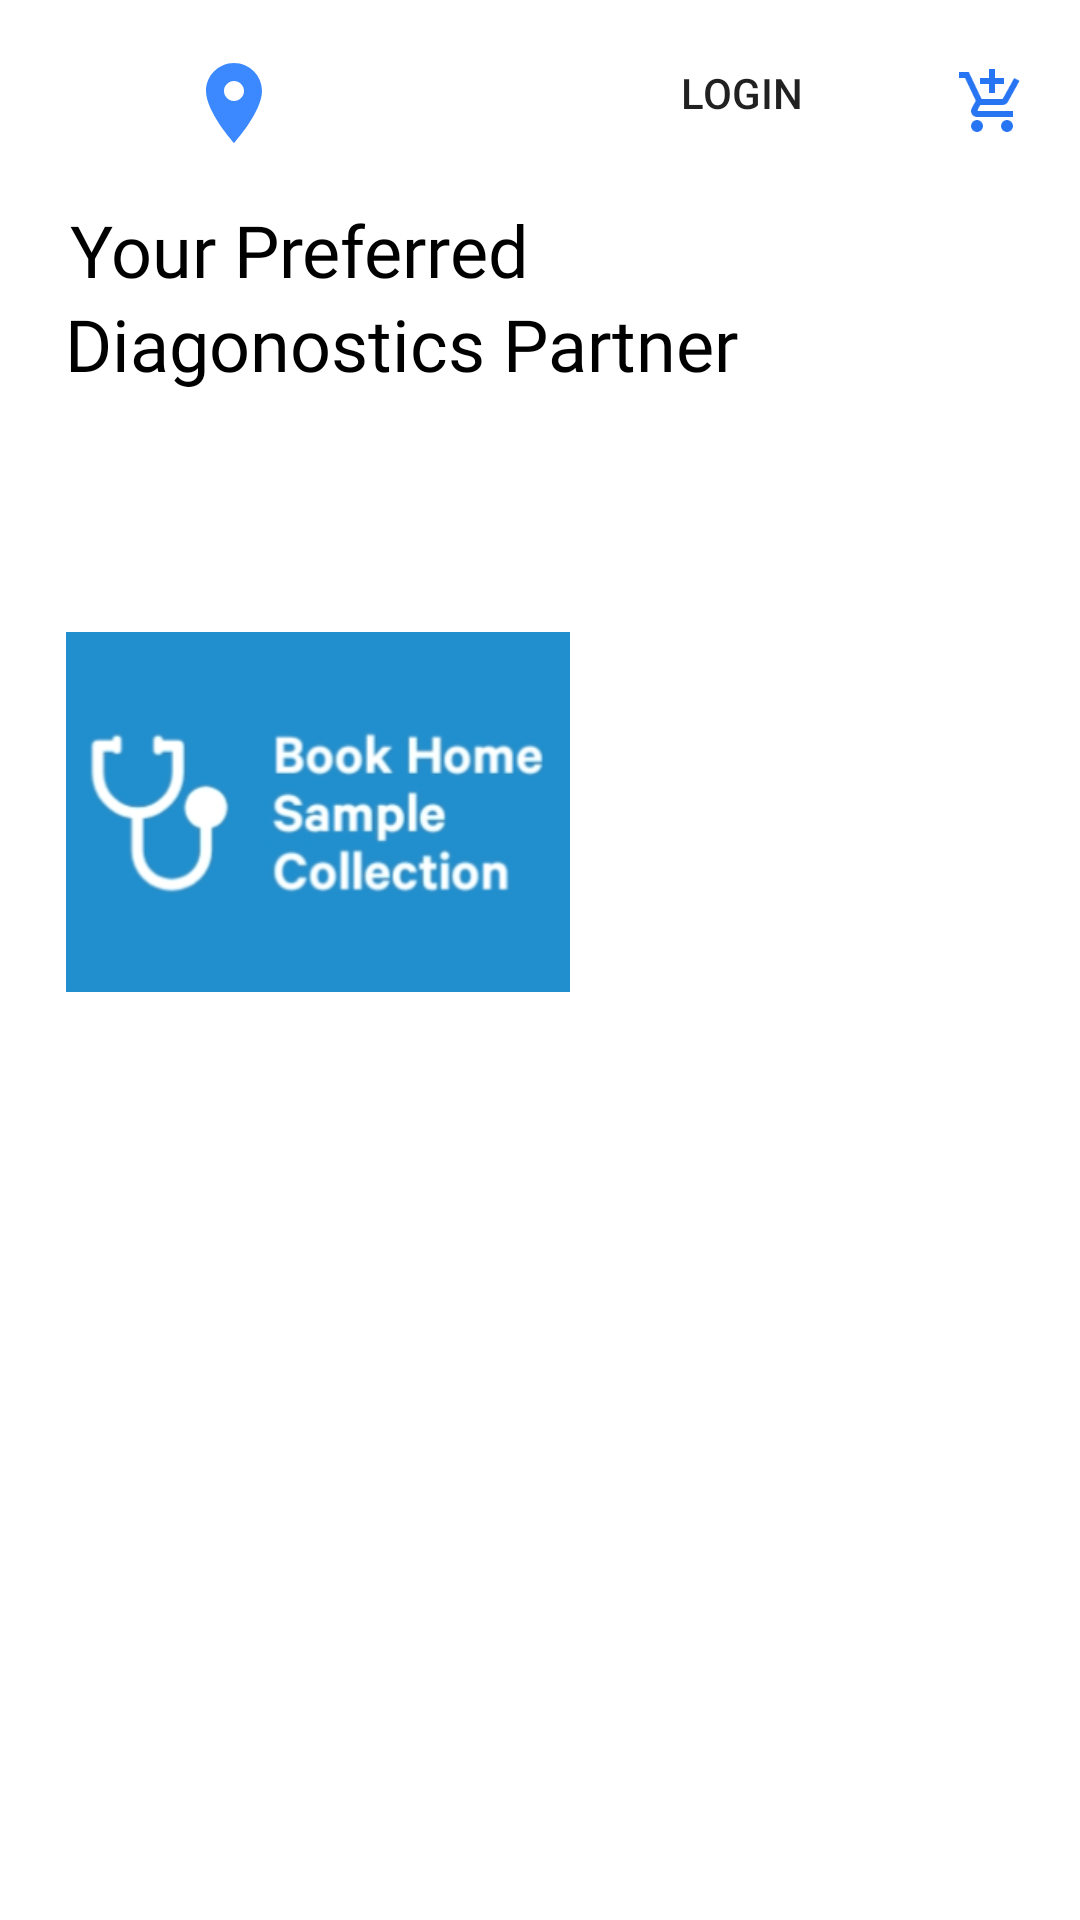

Icons on this 1080×1920 Android screen, each with the point to tap as (x,y):
location on: (234,103)
